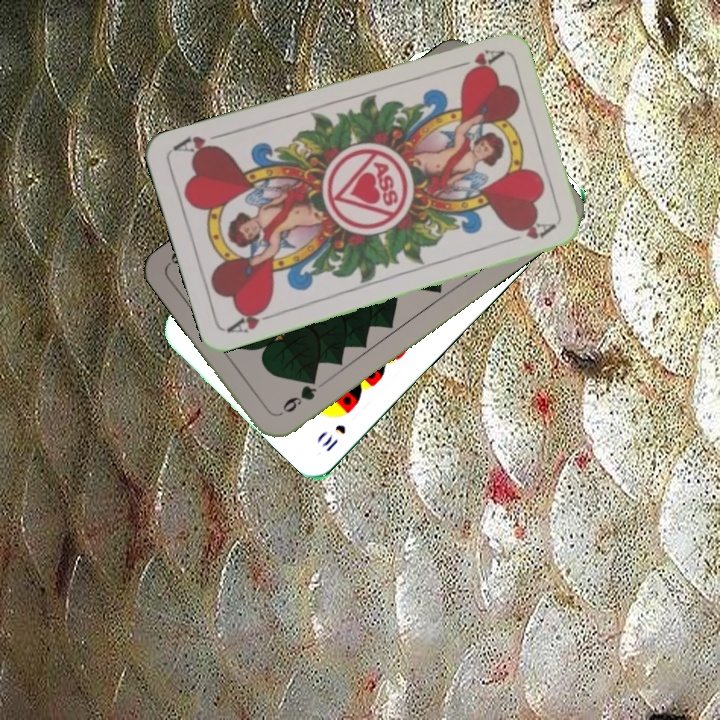G9: (275, 373, 320, 419)
HA: (224, 301, 281, 336), (446, 44, 505, 74)
S10: (317, 420, 349, 455)
